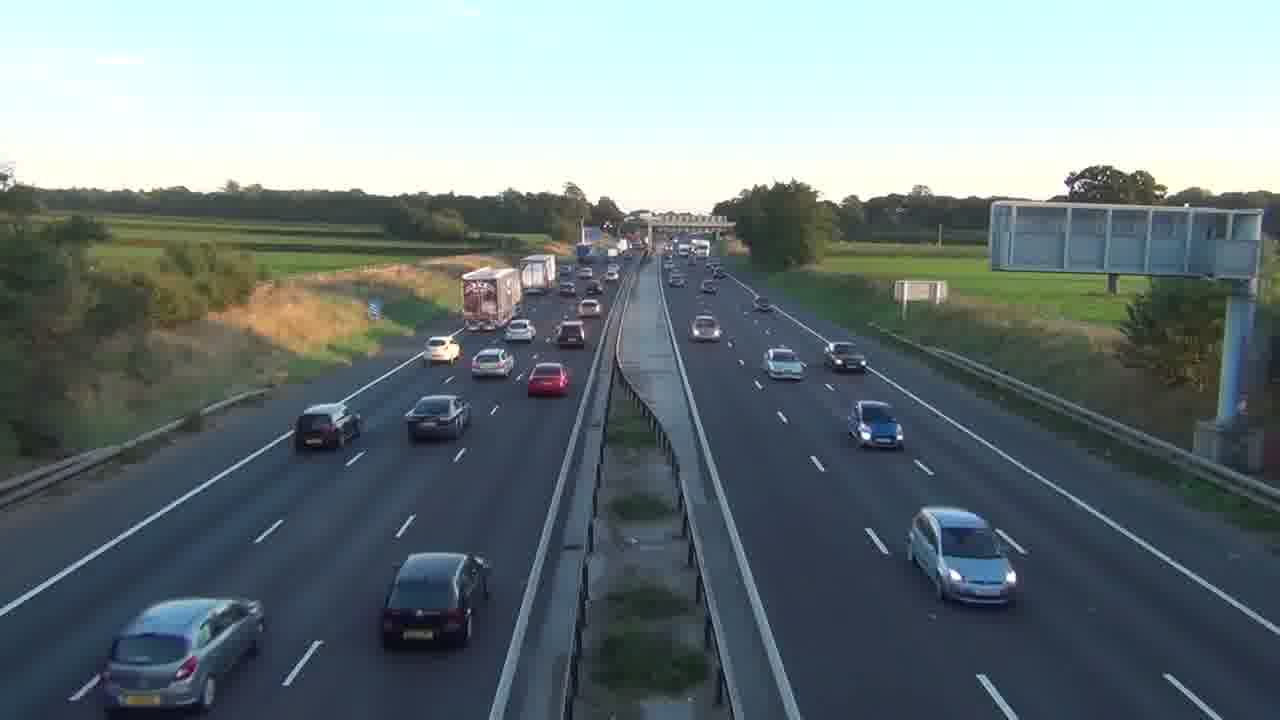car: (97, 594, 267, 714), (907, 505, 1023, 607), (379, 551, 493, 650), (404, 393, 471, 442), (846, 399, 905, 451), (294, 406, 359, 452), (527, 361, 571, 398), (762, 346, 806, 381), (470, 347, 515, 380), (689, 315, 722, 343), (505, 319, 536, 342), (700, 279, 720, 295)
truck: (461, 265, 522, 331)
